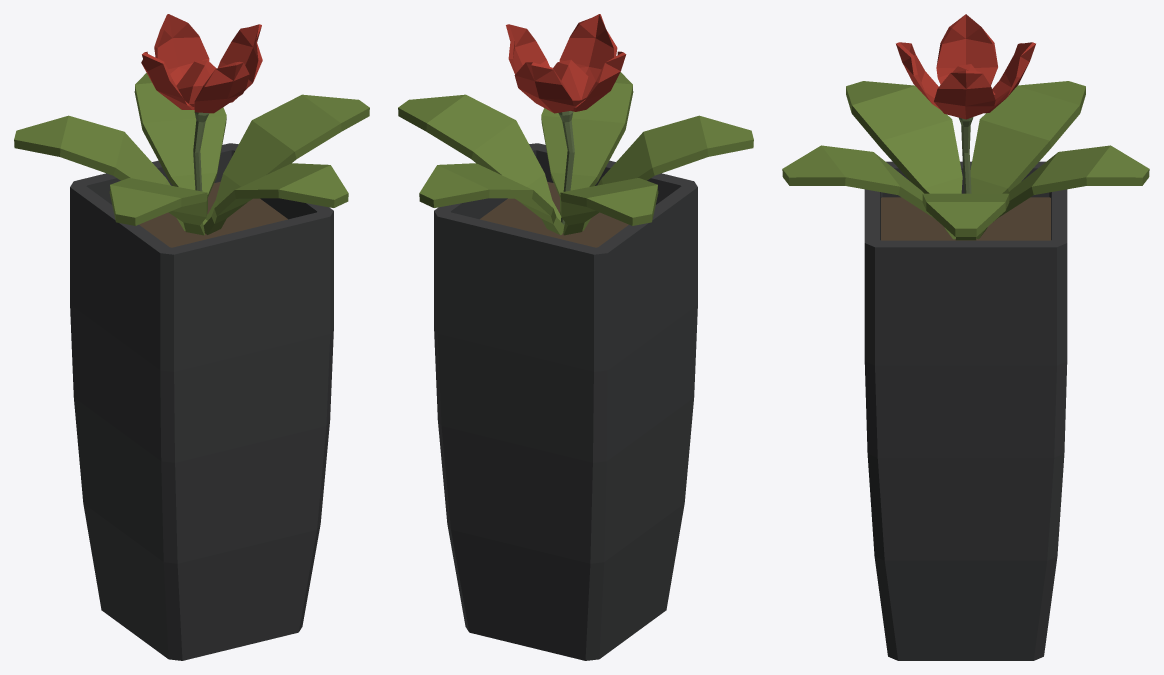
The model's file is SM_Props_Interior_Plant_Large_02.fbx.
3 views of the same model, side by side, from view 1: azimuth 30°, elevation 25°; view 2: azimuth 150°, elevation 25°; view 3: azimuth 270°, elevation 25° (orthographic).
Parts seen in each view (by area): view 1: SM_Props_Interior_Plant_Large_02; view 2: SM_Props_Interior_Plant_Large_02; view 3: SM_Props_Interior_Plant_Large_02.
Boxes of the visible parts, bbox=[...] form: SM_Props_Interior_Plant_Large_02: bbox=[14, 14, 369, 660]; SM_Props_Interior_Plant_Large_02: bbox=[398, 14, 753, 660]; SM_Props_Interior_Plant_Large_02: bbox=[782, 14, 1149, 660].
Bounding box in the file's own units: 80.7 × 149 × 84.85.
